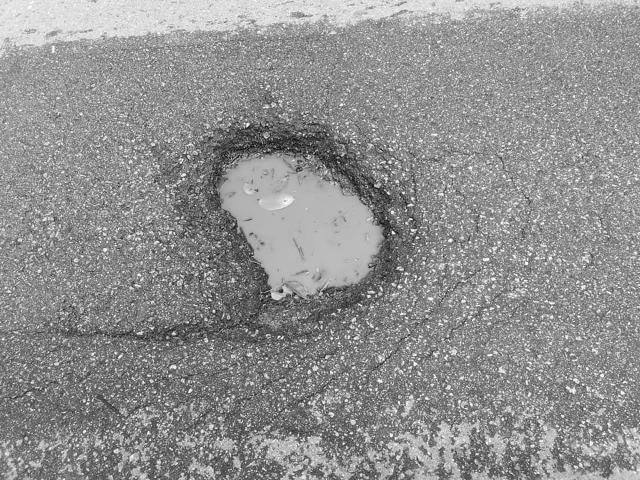Pothole: (208, 137, 390, 307)
